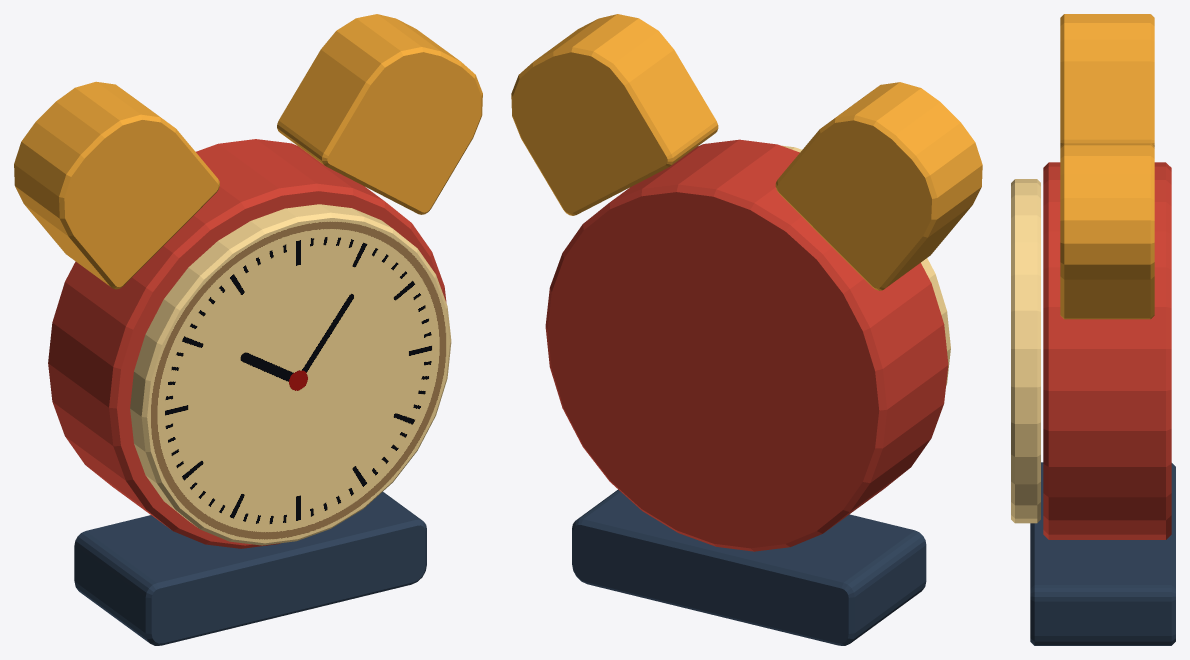
File: AlarmClockPrototype.glb
3 renders of one model, left to right at view 1: azimuth 30°, elevation 25°; view 2: azimuth 150°, elevation 25°; view 3: azimuth 270°, elevation 25°, orthographic. The views are drawn at different scales.
Parts seen in each view (by area): view 1: Part_002_Dial, Part_001_Case, Part_000_Base, Part_003_LeftBell, Part_004_RightBell; view 2: Part_001_Case, Part_000_Base, Part_003_LeftBell, Part_004_RightBell, Part_002_Dial; view 3: Part_001_Case, Part_004_RightBell, Part_000_Base, Part_003_LeftBell, Part_002_Dial.
Boxes of the visible parts, x1,y1,x2,y2 form: Part_002_Dial: (130,204,451,545); Part_001_Case: (48,139,446,548); Part_000_Base: (74,492,426,645); Part_003_LeftBell: (14,81,219,289); Part_004_RightBell: (277,14,482,214); Part_001_Case: (545,139,948,551); Part_000_Base: (572,489,926,645); Part_003_LeftBell: (775,82,982,290); Part_004_RightBell: (511,14,718,215); Part_002_Dial: (781,145,950,385); Part_001_Case: (1043,162,1171,539); Part_004_RightBell: (1060,143,1154,319); Part_000_Base: (1030,462,1175,645); Part_003_LeftBell: (1060,14,1154,146); Part_002_Dial: (1011,179,1040,523).
Size of the model in its own units: 11 by 12.92 by 3.85.
Materials: 5 (1 with a texture image).
